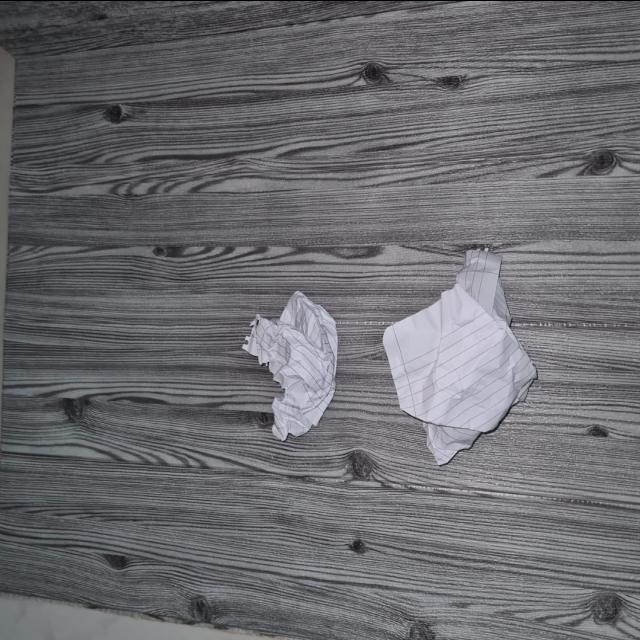kertas: (385, 238, 533, 452), (240, 282, 341, 442)
